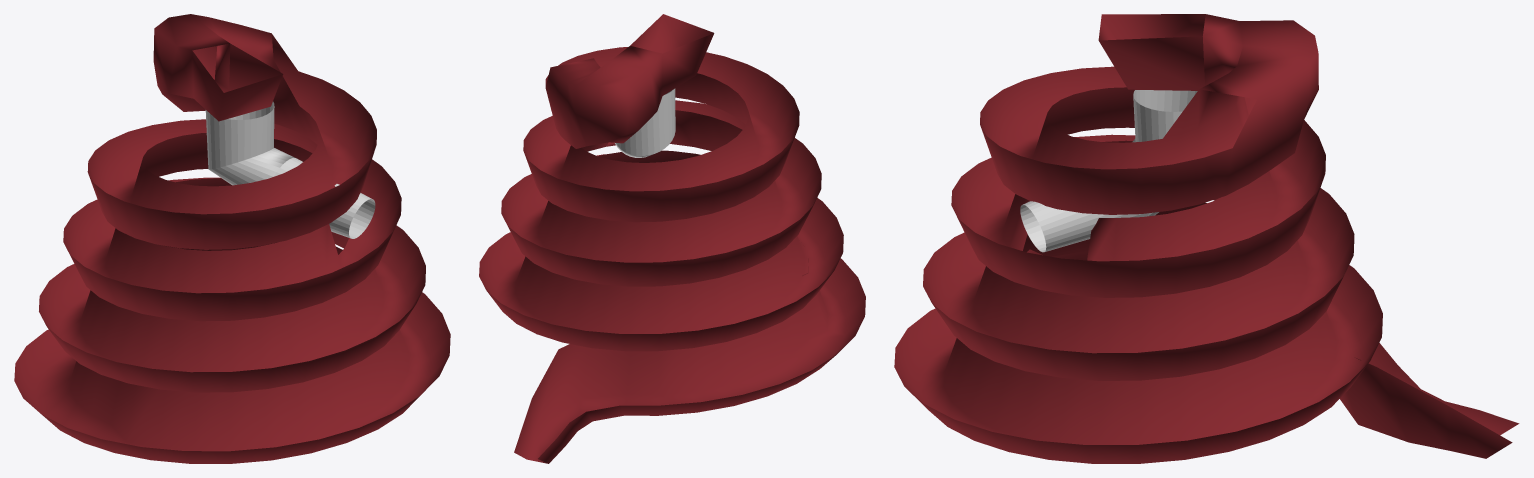
File: ecto_burger_23_ramp_col_06.fbx
3 renders of one model, left to right at view 1: azimuth 30°, elevation 25°; view 2: azimuth 150°, elevation 25°; view 3: azimuth 270°, elevation 25°, orthographic. The views are drawn at different scales.
Visible parts, largest first — view 1: RAMP_COLLISION; view 2: RAMP_COLLISION; view 3: RAMP_COLLISION.
Part boxes in pixels (x1,y1,x2,y2): RAMP_COLLISION: [14, 14, 450, 463]; RAMP_COLLISION: [479, 14, 865, 463]; RAMP_COLLISION: [894, 14, 1519, 463].
Bounding box in the file's own units: 84.3 × 78.95 × 104.
